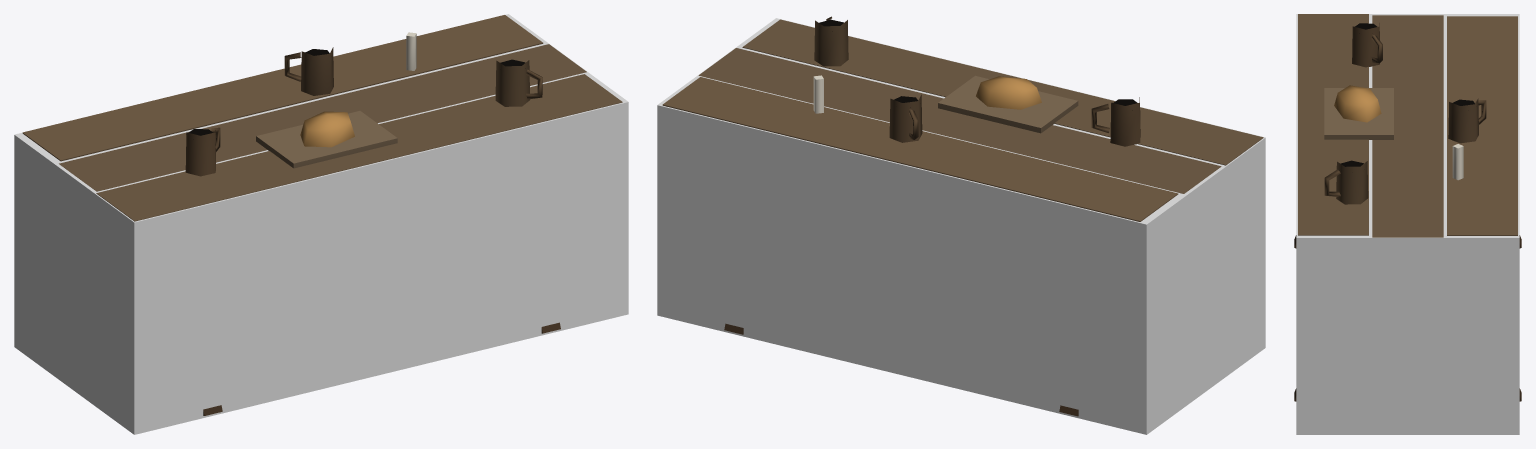
The model's file is table.glb.
The picture shows the model from 3 angles, left to right: view 1: azimuth 30°, elevation 25°; view 2: azimuth 150°, elevation 25°; view 3: azimuth 270°, elevation 25°; orthographic projection. The views are drawn at different scales.
Parts seen in each view (by area): view 1: COL_table, table; view 2: COL_table, table; view 3: table, COL_table.
Part boxes in pixels (<box>): COL_table: <box>14,14,628,434</box>; table: <box>22,15,622,415</box>; COL_table: <box>657,18,1265,434</box>; table: <box>662,16,1263,416</box>; table: <box>1294,14,1521,401</box>; COL_table: <box>1296,14,1519,434</box>.
Bounding box in the file's own units: 1.9 × 0.9407 × 0.8161.
